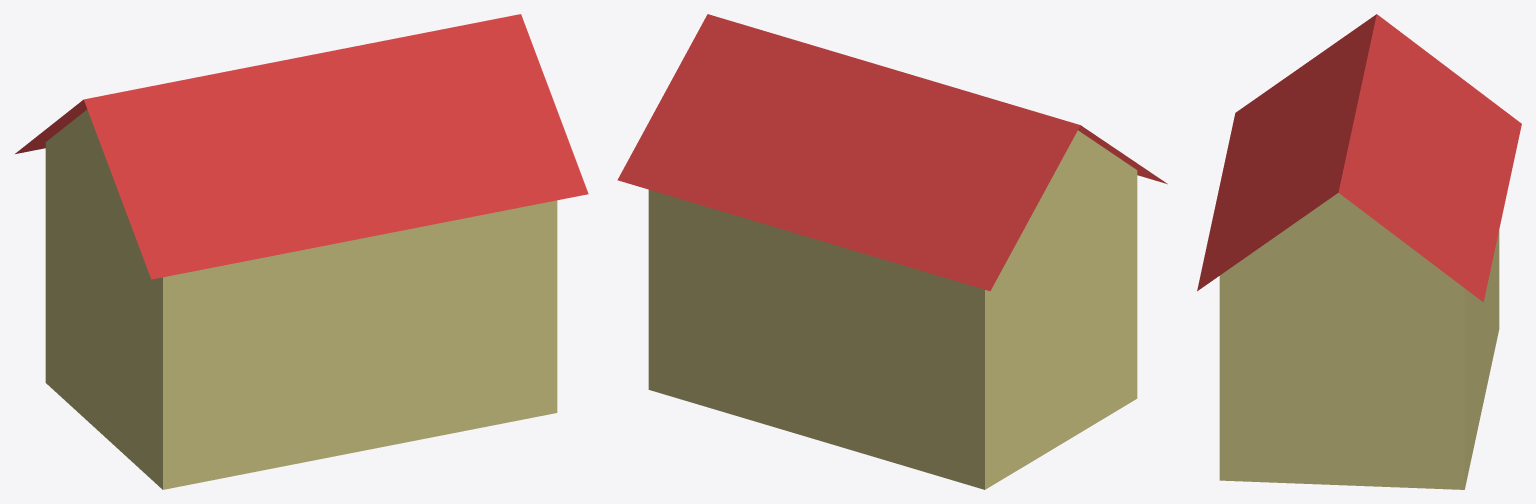
3 renders of one model, left to right at view 1: azimuth 30°, elevation 25°; view 2: azimuth 150°, elevation 25°; view 3: azimuth 270°, elevation 25°, orthographic. The views are drawn at different scales.
Bounding box in the file's own units: 16.18 × 11.72 × 11.99.
